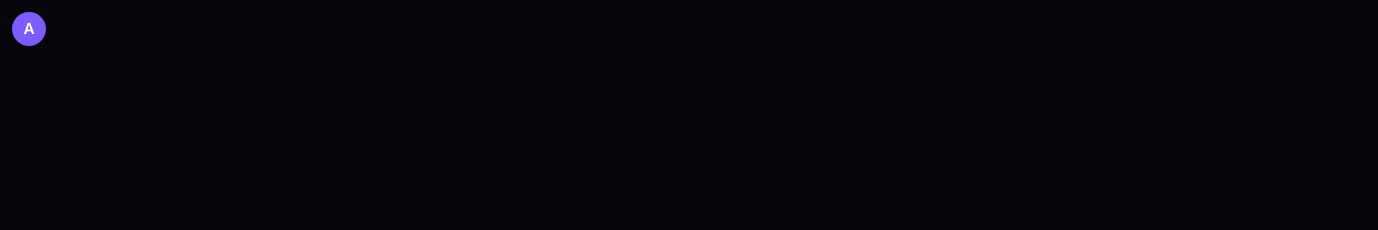
Test: logado: menu com nome, e-mail, atalho para a lista e "Sair"
Later steps or results of the test are not shown.
Click the button named "Conta de Ana" at [29, 29], box [12, 12, 46, 46]
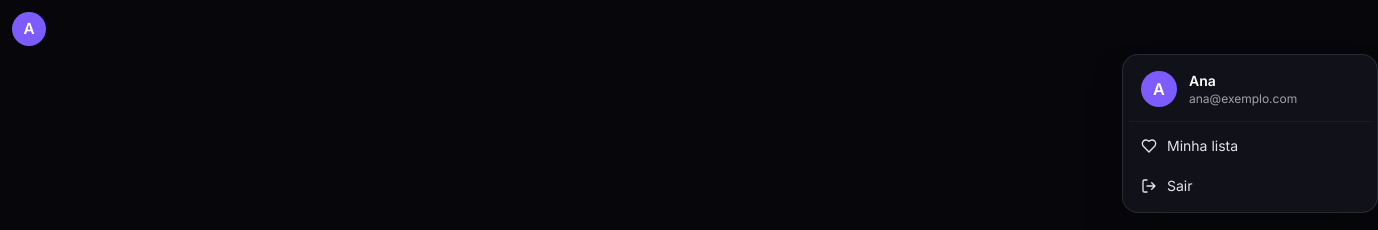
Expected: the menu shows "ana@exemplo.com", [1189, 91, 1297, 106]
Press Escape
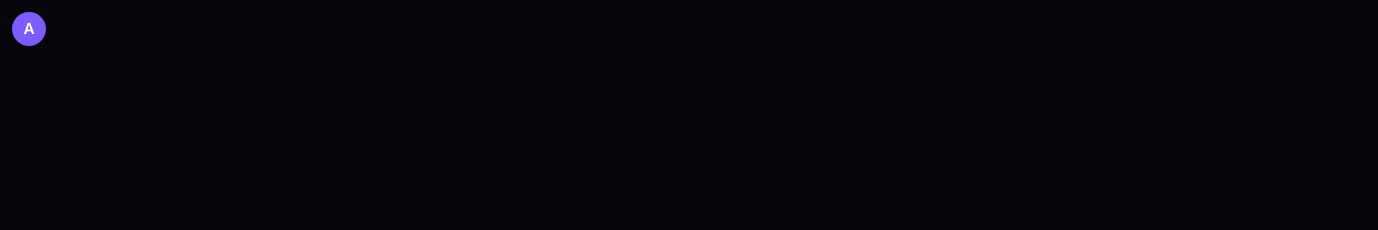
Expected: the menu is gone
